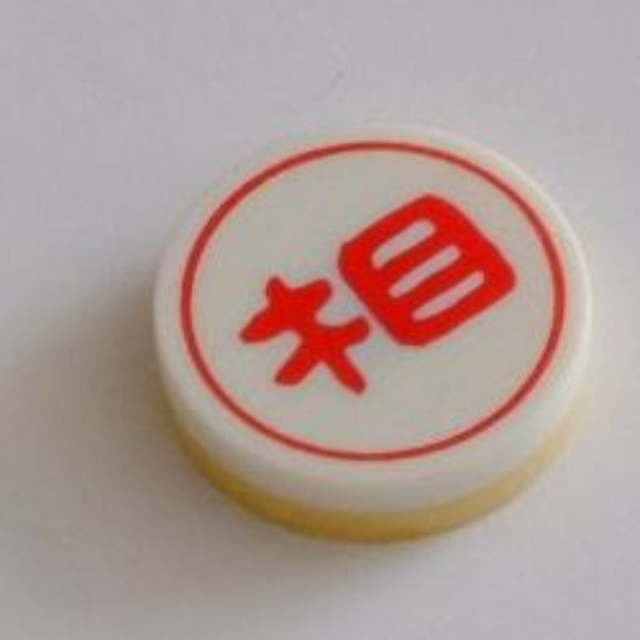red_bo: (141, 115, 605, 546)
